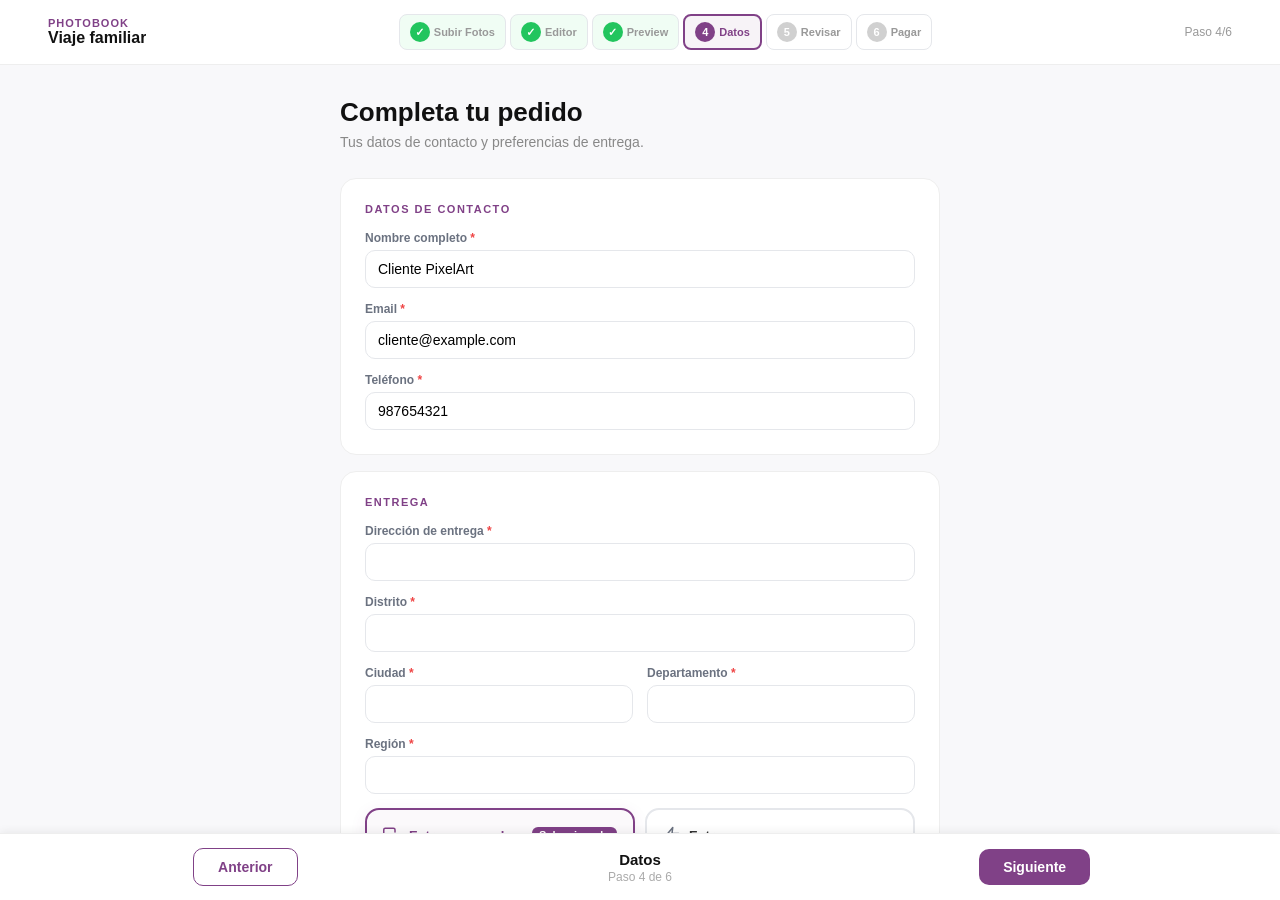
Test case: PhotobookEditorClient characterization › requires every delivery location field before moving past the order form
Expected: the heading "Completa tu pedido" is shown, [340,97,583,127]
Click the button "Siguiente" at (1035, 867), box [979,849,1090,885]
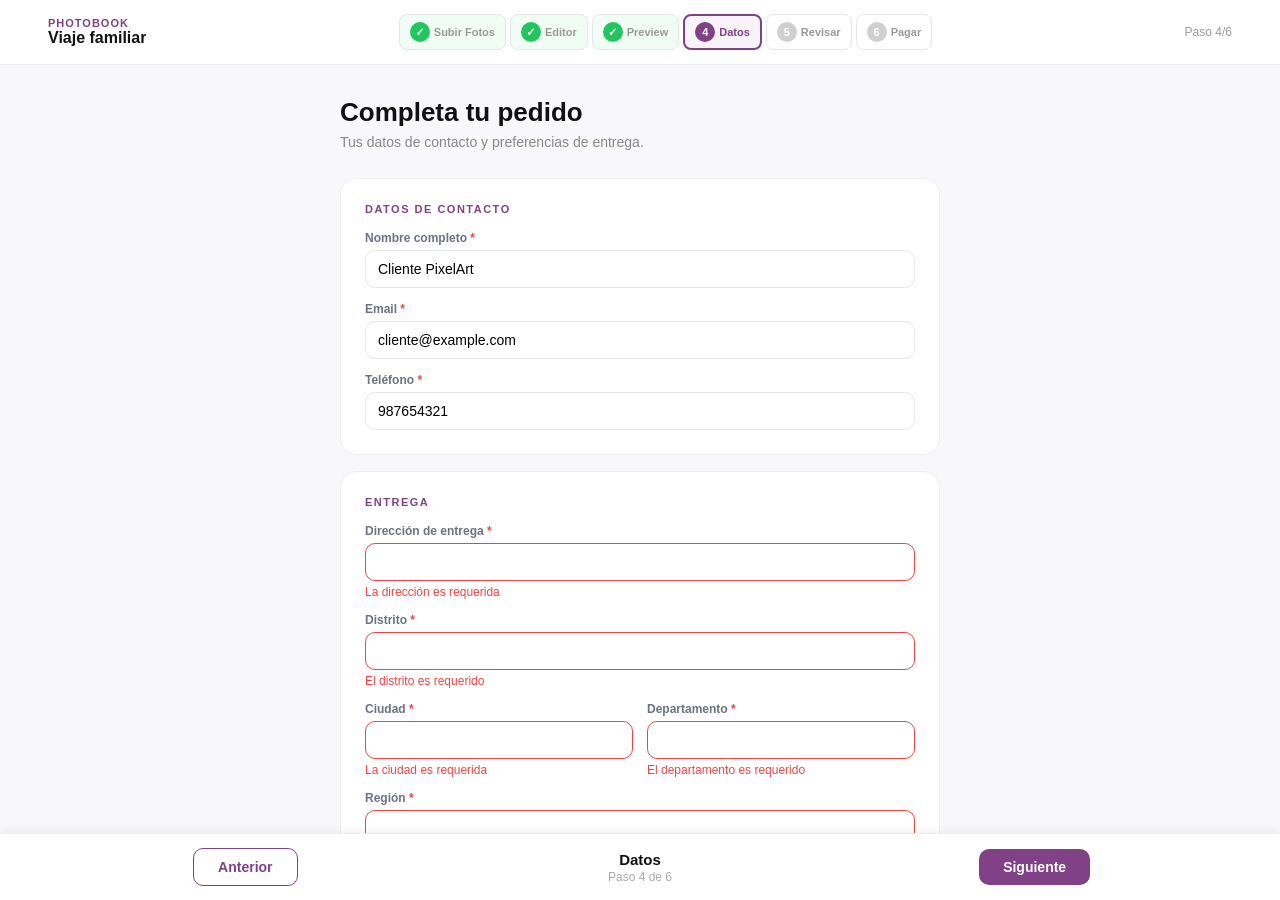
Result: the text "La dirección es requerida" is shown at [365,585,500,599]
Result: the text "El distrito es requerido" is shown at [365,674,484,688]
Result: the text "La ciudad es requerida" is shown at [365,763,487,777]
